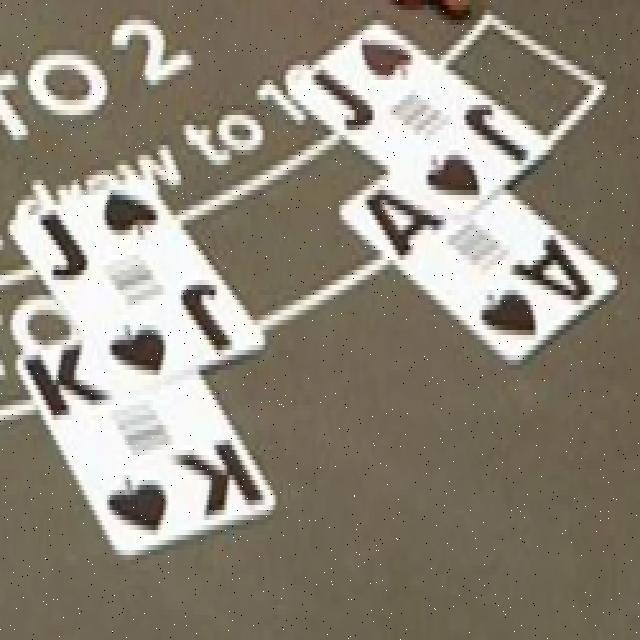Card-A: (340, 173, 620, 362)
Card-J: (8, 177, 264, 397), (289, 15, 553, 219)
Card-K: (16, 329, 277, 557)
